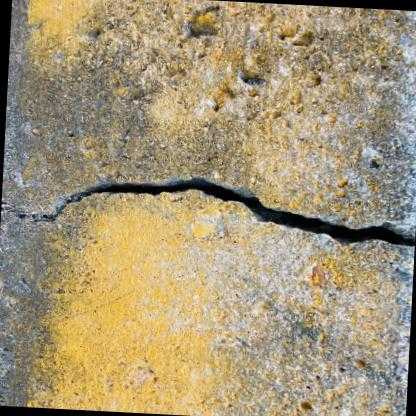crack: (0, 177, 414, 247)
